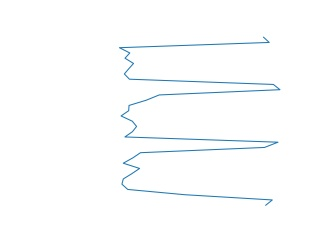majorRiverChannelBar: (116, 37, 281, 209)
